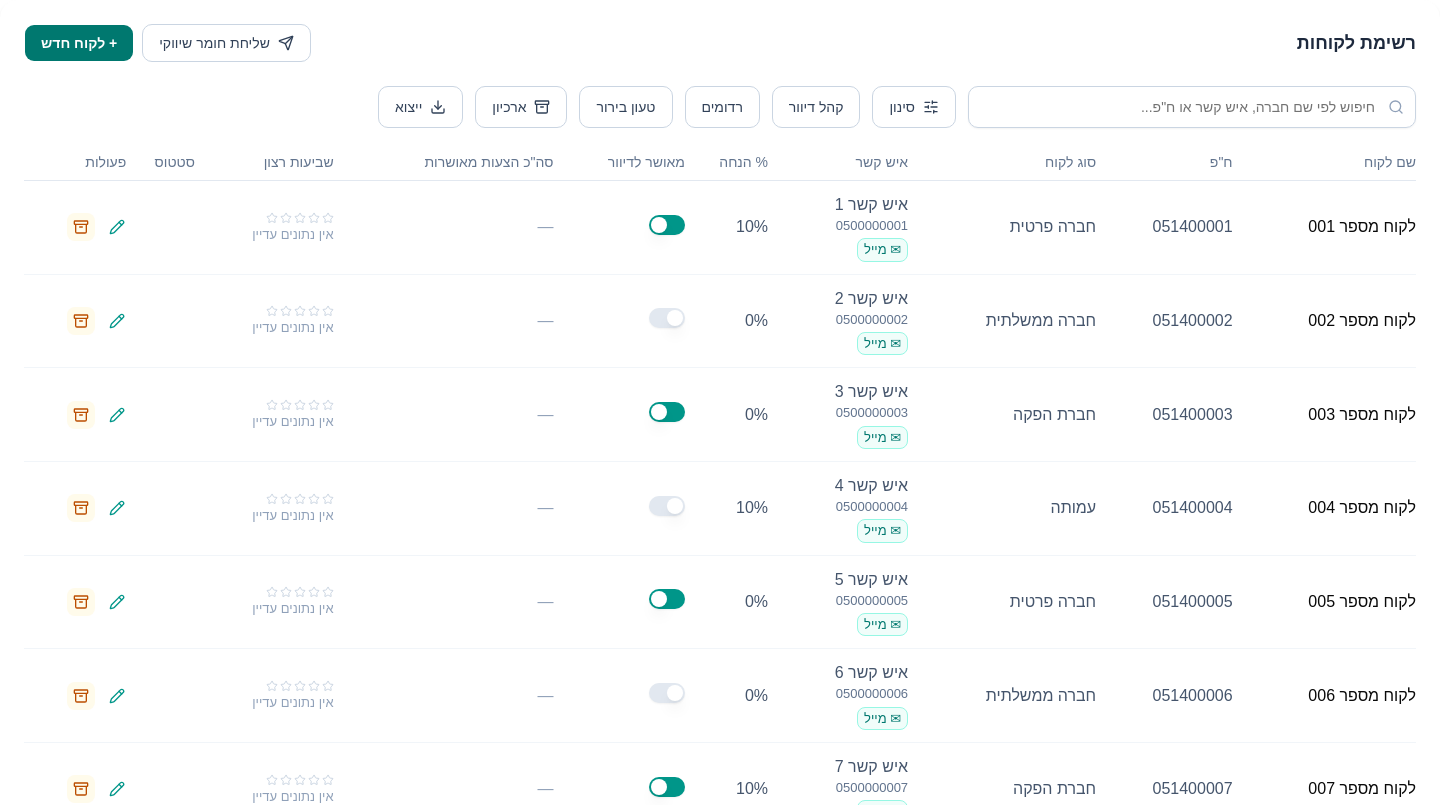
it: CustomersPage — חיבור לחלון-הייצוא › שורת-הכמות סופרת את כל מה שעומד במסנן — לא את עמוד-הדפדוף
What coordinates should you click on to do the following:
click the button with test id "customers-export-button"
I would click on:
 (421, 107)
Its box is [378,86,463,128].
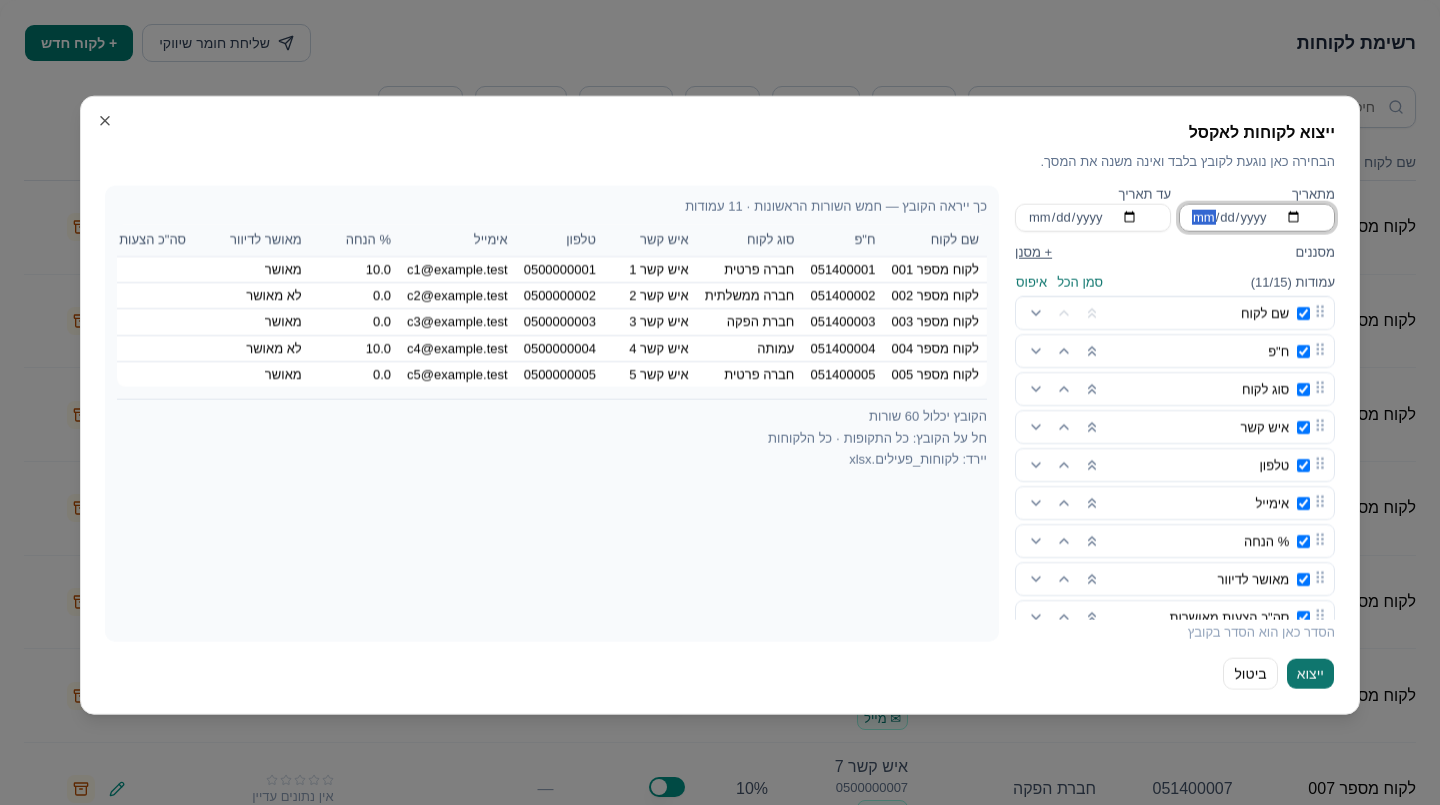
Result: the text with test id "export-count" shows "60 שורות" at [869,409,987,424]
